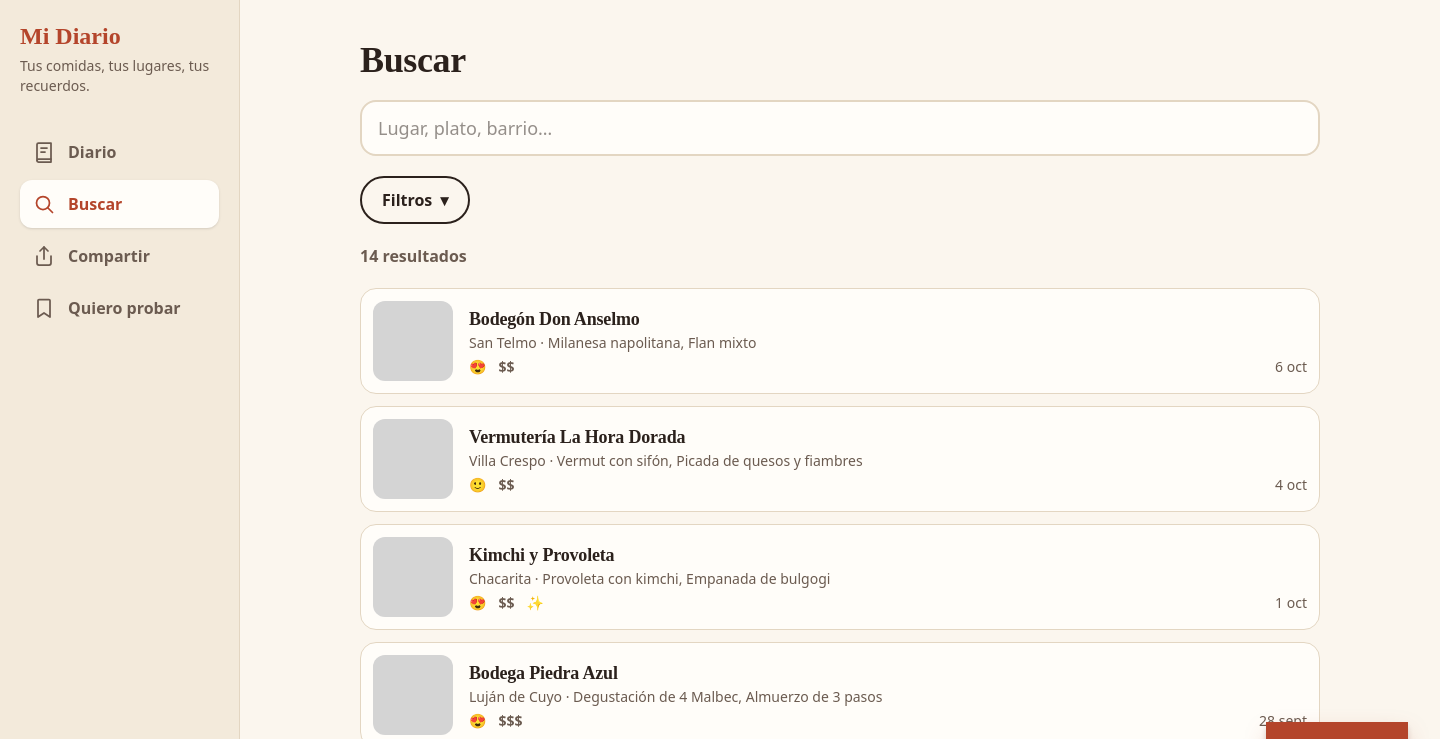
Test: Search › filters › keeps the filter panel collapsed until asked, and says how many are active
What coordinates should you click on to do the following:
click the button "Filtros ▾"
I would click on:
 (415, 200)
Its box is [360,176,470,224].
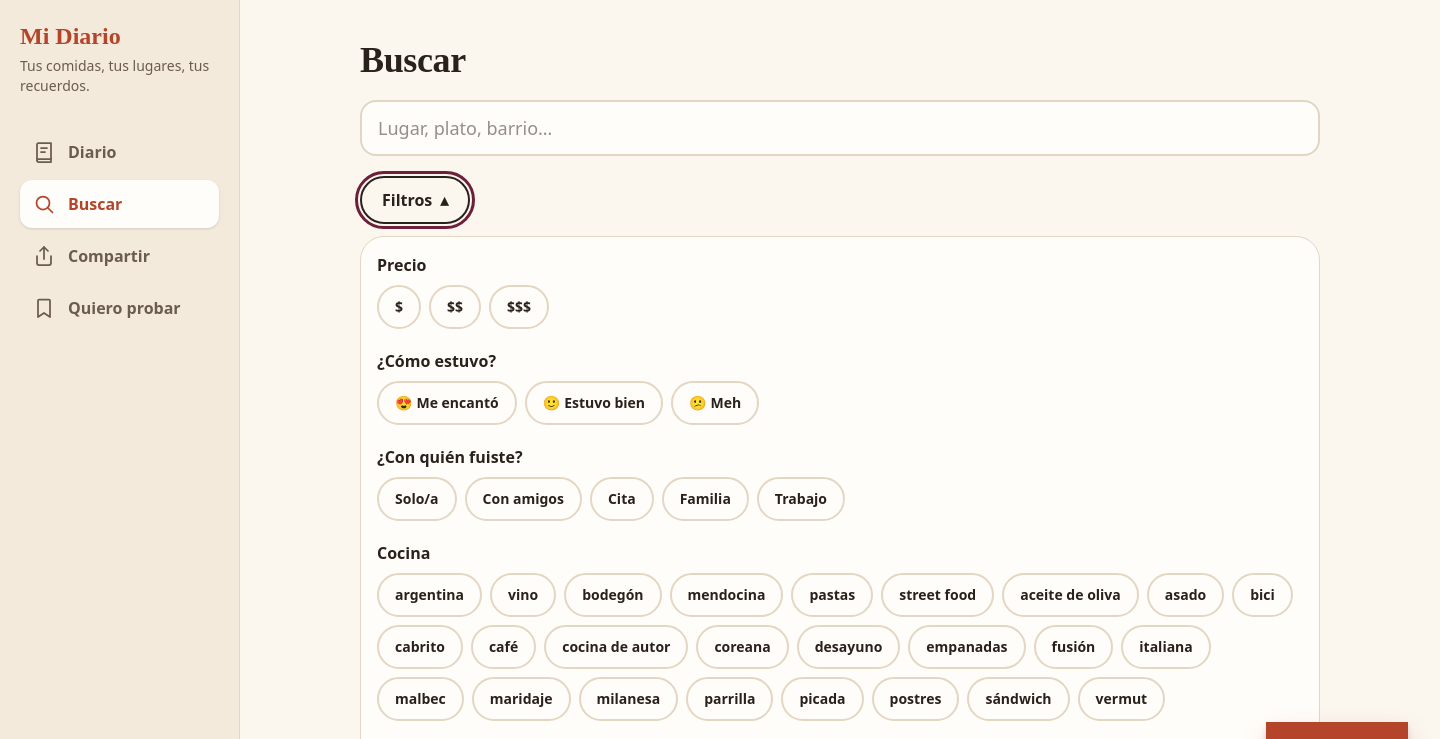
Now the button "Filtros ▴" is expanded, box [360,176,470,224]
What coordinates should you click on to do the following:
click the button named "$$$: Caro"
I would click on:
 (519, 307)
Its box is [489,285,549,329].
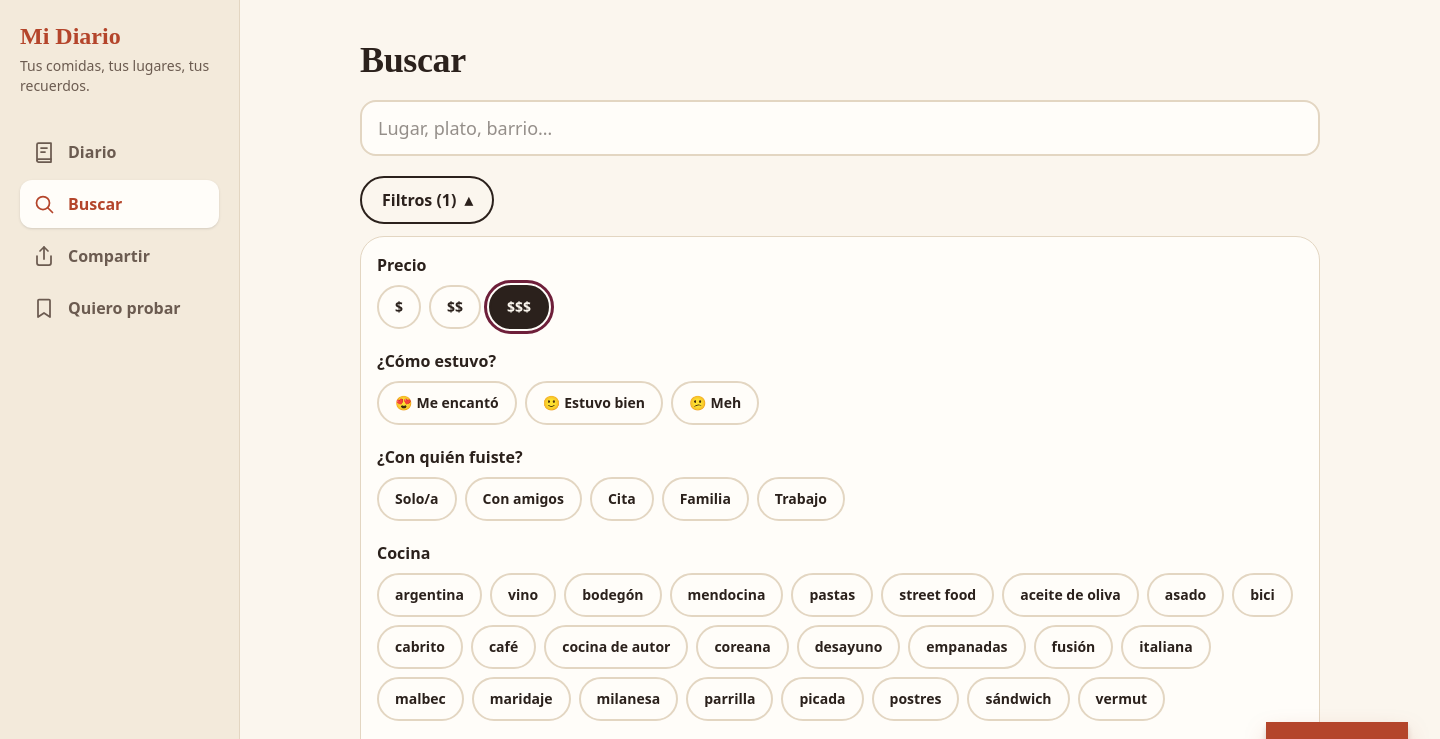
Now the button "Filtros (1) ▴" is shown, box [360,176,494,224]
